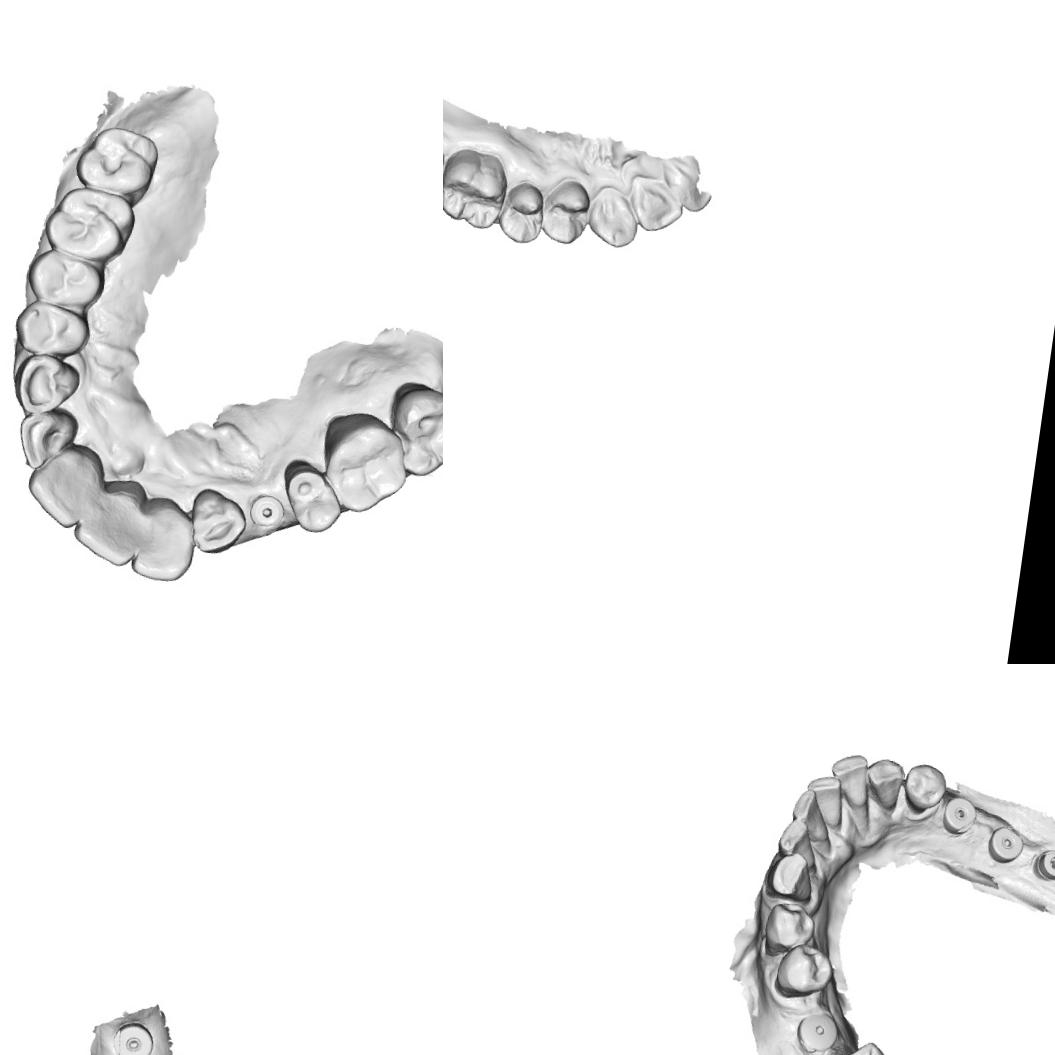canine: (10, 350, 85, 421), (184, 487, 251, 560), (583, 184, 643, 252), (762, 848, 817, 904), (861, 755, 908, 813)
implant: (792, 1008, 840, 1055), (984, 822, 1028, 867), (108, 1018, 157, 1055), (939, 794, 980, 838), (248, 493, 286, 531), (1032, 846, 1055, 883)
incisor: (22, 441, 102, 534), (64, 484, 146, 572), (126, 502, 199, 586), (12, 409, 81, 478), (625, 174, 687, 236), (657, 155, 716, 214), (824, 750, 875, 812), (786, 786, 836, 846), (772, 815, 822, 873), (801, 773, 847, 830)
molar: (313, 408, 419, 520), (40, 182, 141, 268), (70, 121, 162, 205), (378, 375, 443, 485), (443, 144, 511, 232), (814, 1034, 910, 1055)
premolar: (19, 248, 105, 316), (274, 458, 346, 537), (10, 300, 97, 364), (770, 938, 838, 1005), (758, 898, 820, 965), (536, 176, 594, 247), (495, 178, 548, 246), (900, 760, 950, 818)
